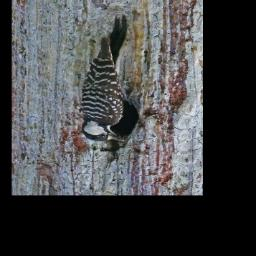Woodpecker: (77, 15, 131, 145)
